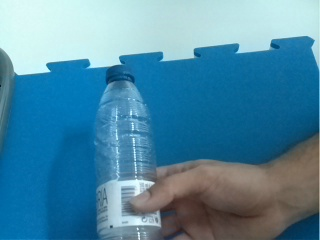botella plastico: (93, 66, 163, 240)
